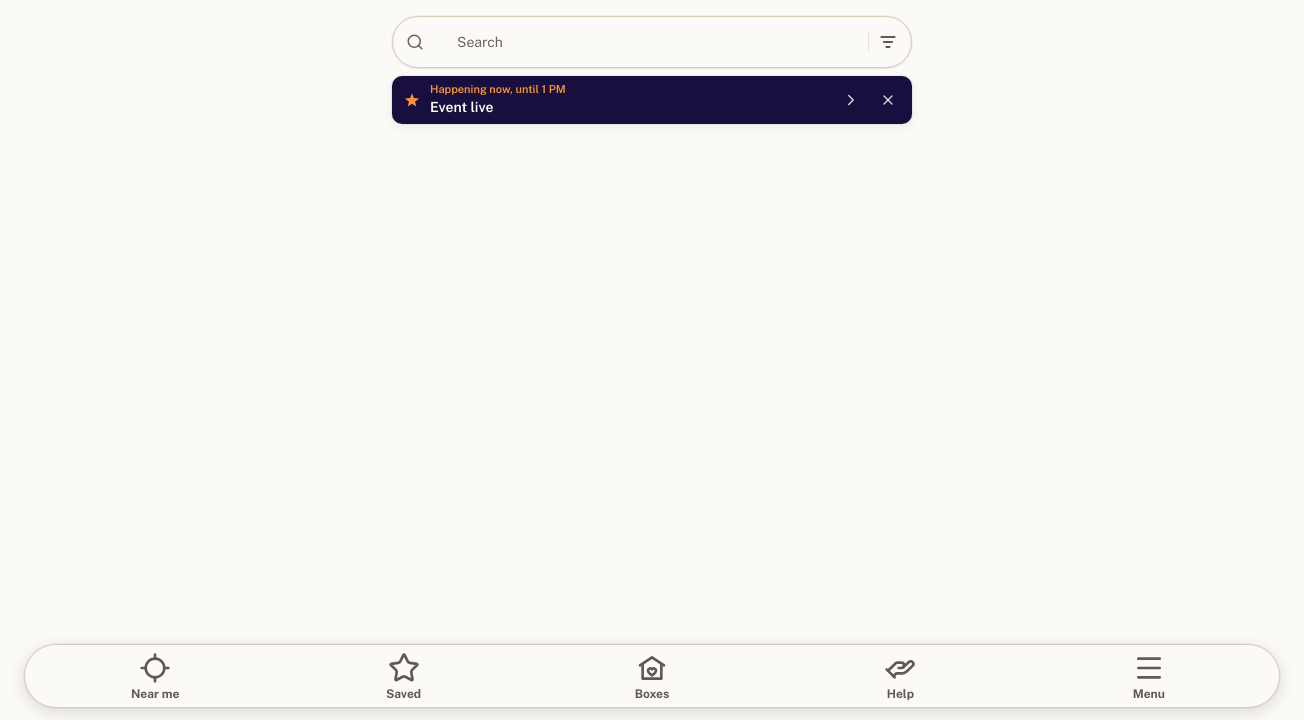
Test: search popover closes on outside interaction › a press inside the popover does not close it before the row's click lands
Focus the dropdown at [652, 42], box [392,16,912,68]
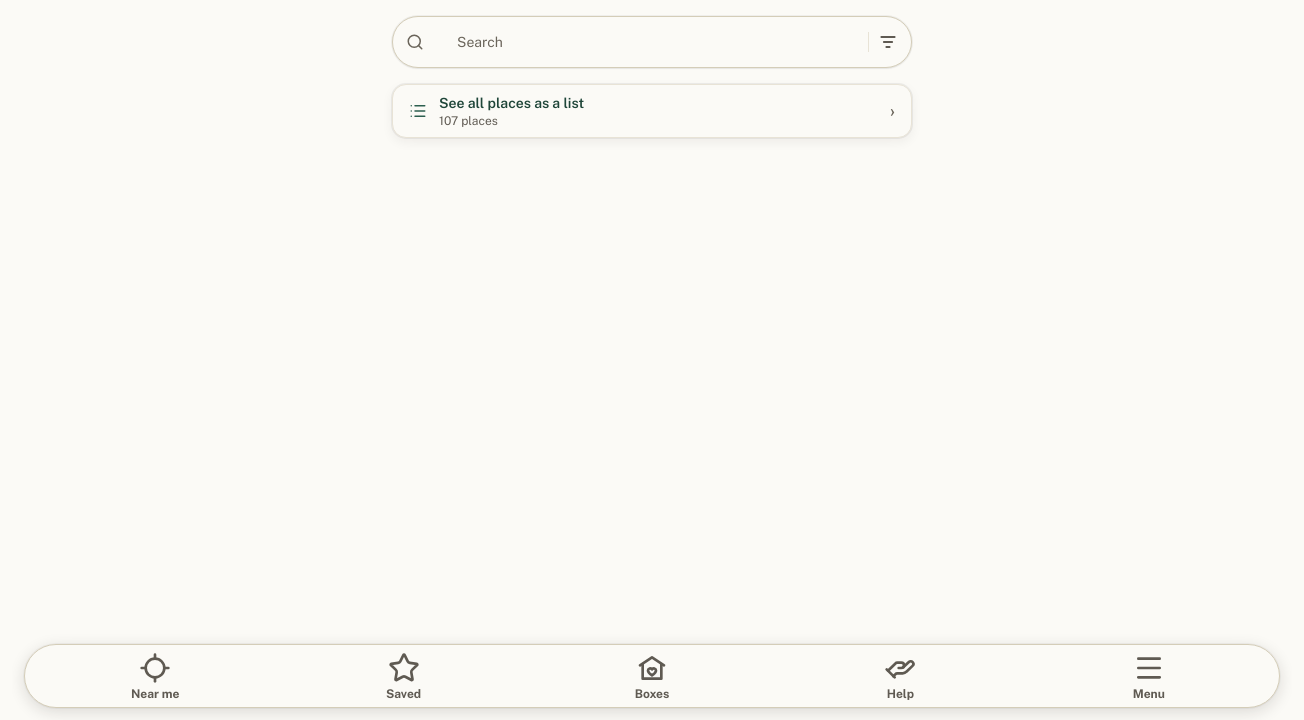
Press the mouse on the button "See all places as a list 107 places ›" at [512, 103], box [393,85,911,137]
Now the button "See all places as a list 107 places ›" is shown
Click the button "See all places as a list 107 places ›".
click(512, 103)  # box [393,85,911,137]
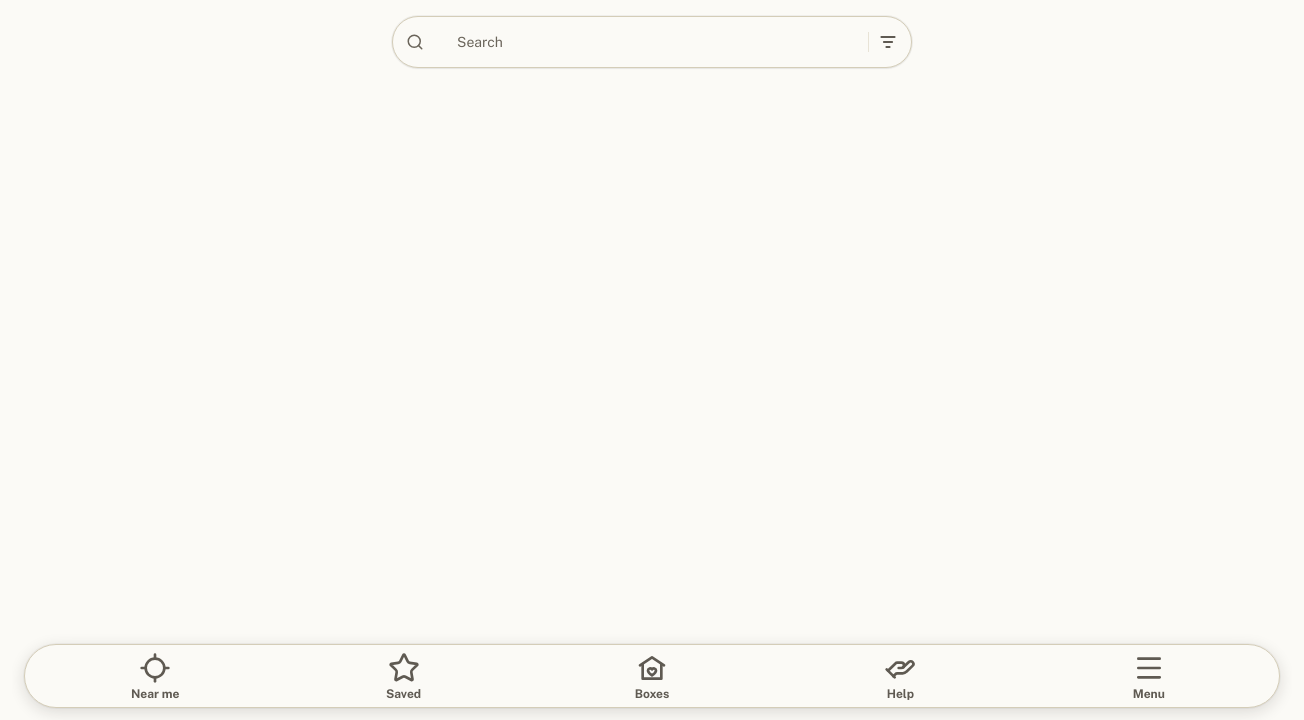
Now the button "See all places as a list" is gone
